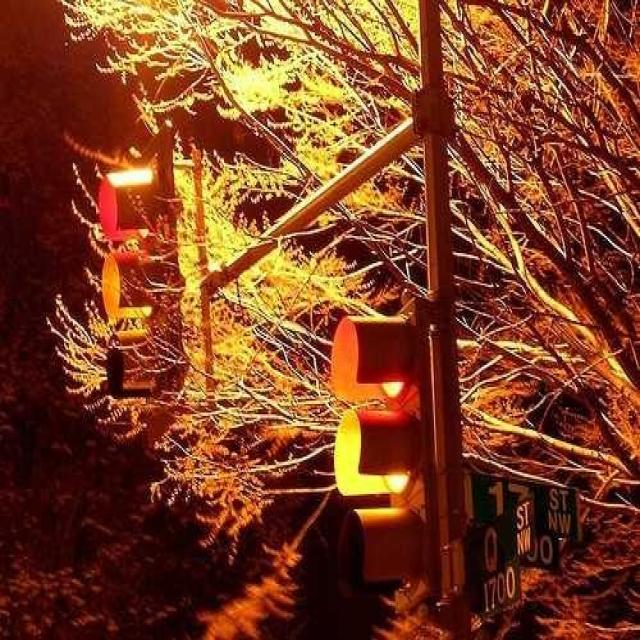Traffic Light -Red-: (316, 302, 432, 402), (93, 153, 169, 249)
Traffic Light -Yellow-: (325, 403, 433, 500), (96, 247, 186, 337)
